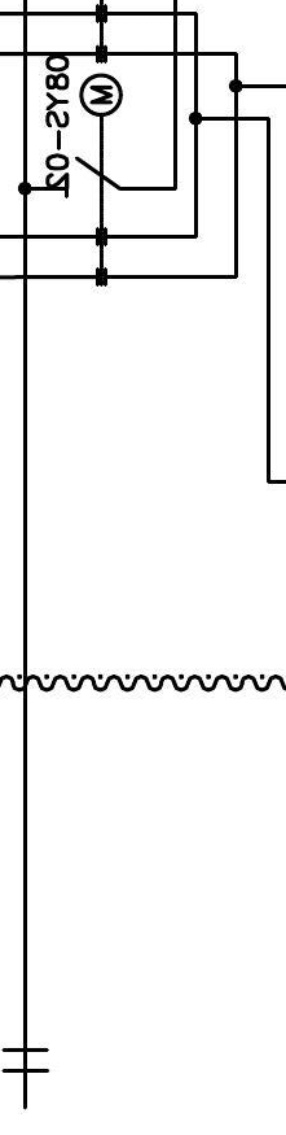115_1way_ds_w_motor: (63, 72, 125, 200)
115_buffer: (1, 1048, 50, 1073)
